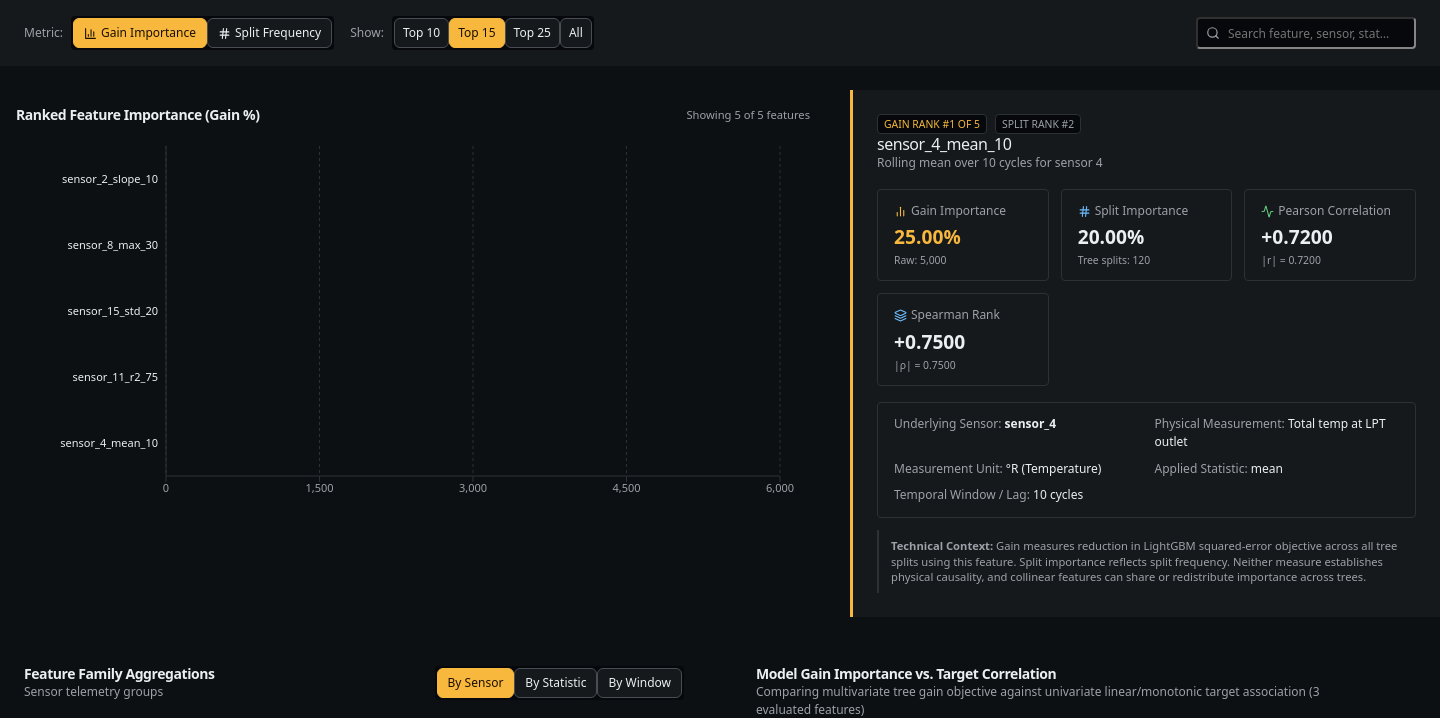
Test case: Stage 4 — Feature Intelligence UI Component Regression Tests › 2. Feature Importance Section Controls & Interactions › filters feature list by search input
The width and height of the screenshot is (1440, 718).
Type "sensor_11" into the field named "Filter features by search term" at {"x": 1306, "y": 33}, box [1196, 17, 1416, 49]
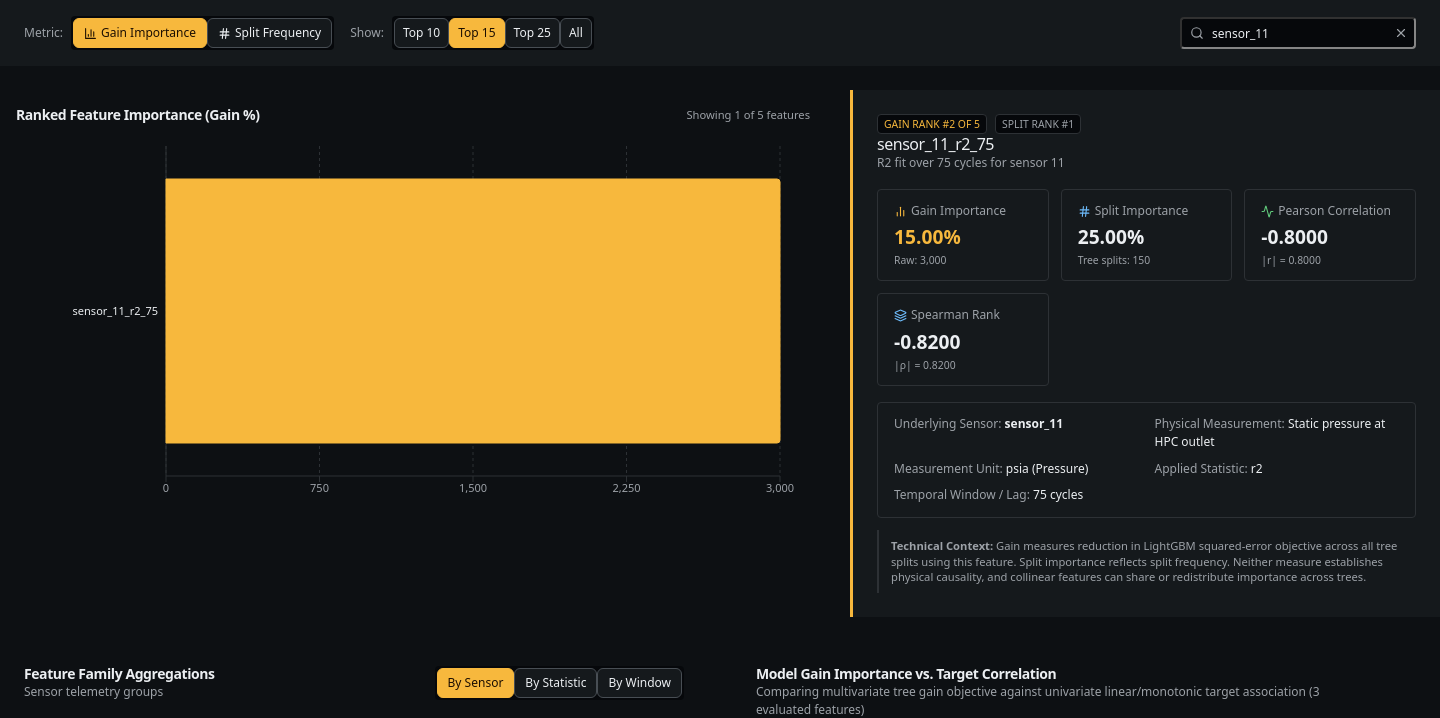
Check: the text "Showing 1 of 5 features" is shown, box [686, 106, 810, 124]
